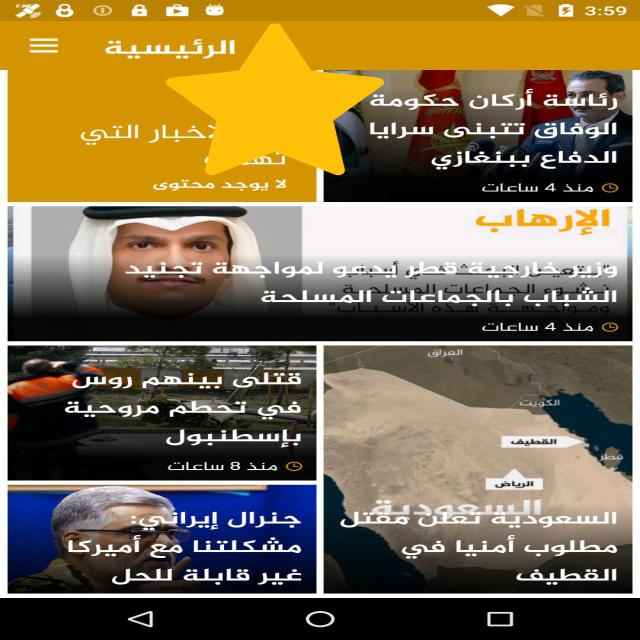forced continuity: (166, 23, 384, 175)
